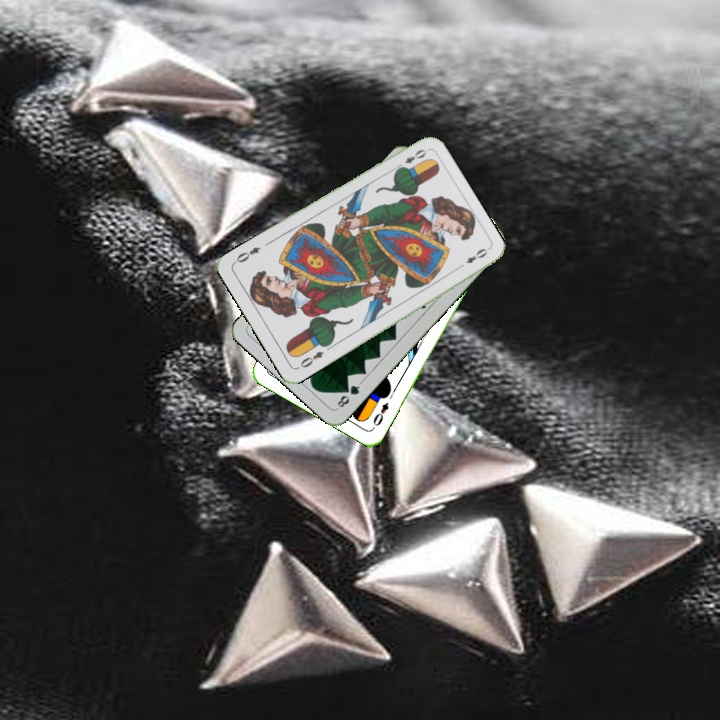EO: (392, 145, 429, 172), (294, 347, 326, 372), (369, 398, 391, 432)
G8: (333, 378, 364, 411)
